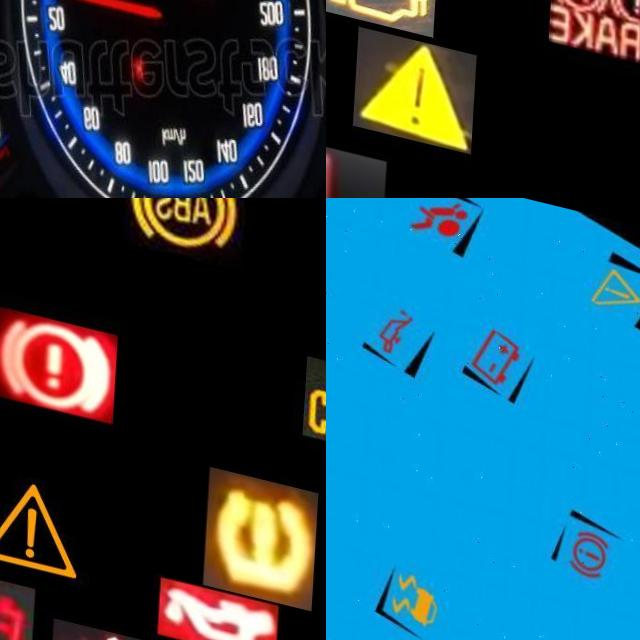Central Warning lamp: (357, 13, 480, 135), (0, 445, 98, 586)
Engine cooling system: (326, 124, 391, 198)
